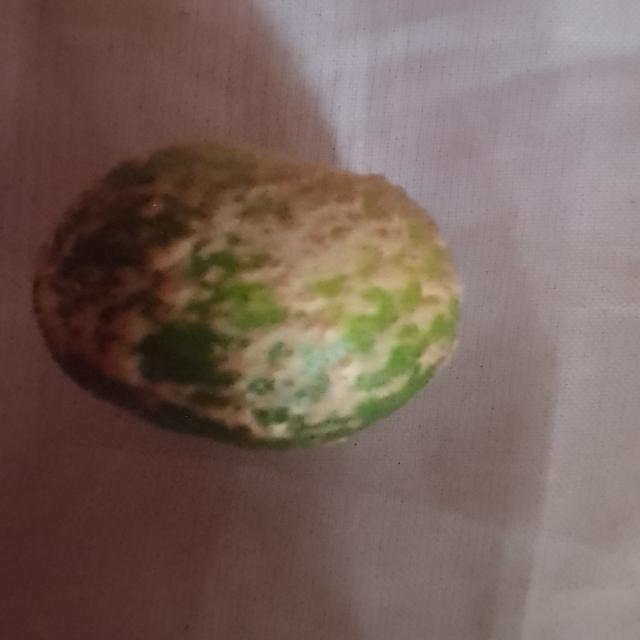scab: (29, 135, 464, 443)
